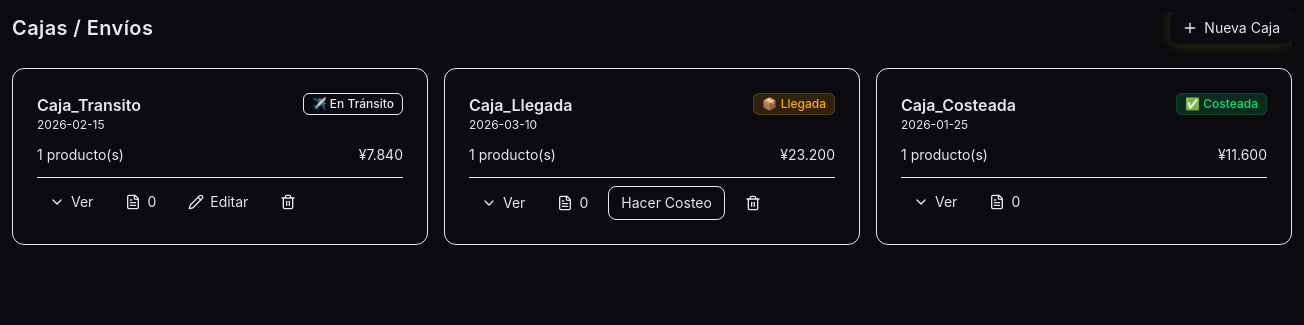
Test: CajasPage › expands box to show product details when Ver is clicked
Click the first Ver button
Click the button "Ver" below "¥7.840" at x=71, y=202, box [37, 186, 105, 218]
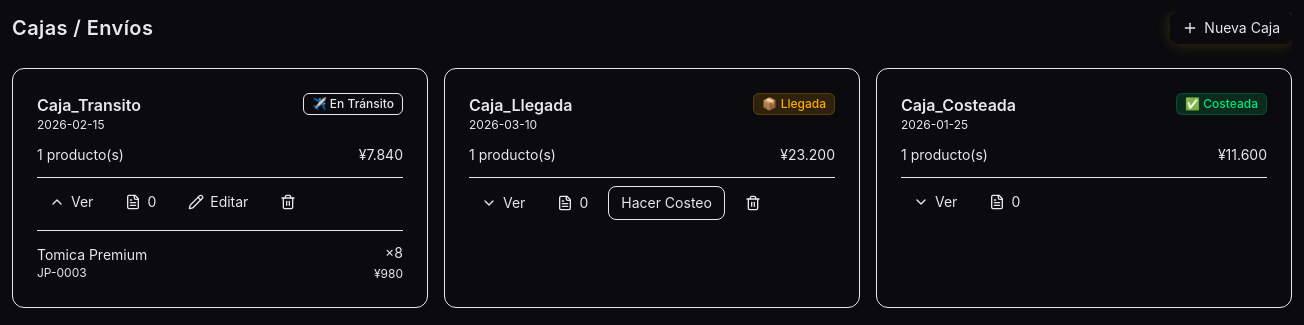
Expected: the text "Tomica Premium" is shown, [37, 245, 147, 265]
